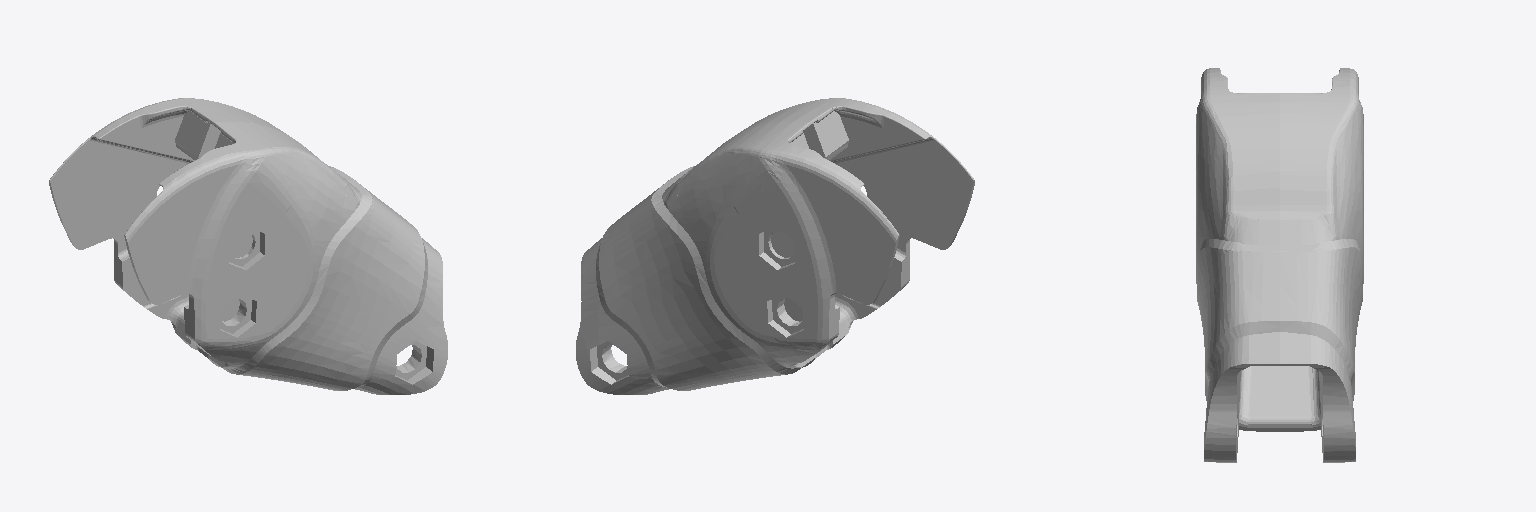
3 renders of one model, left to right at view 1: azimuth 30°, elevation 25°; view 2: azimuth 150°, elevation 25°; view 3: azimuth 270°, elevation 25°, orthographic.
Visible parts, largest first — view 1: Link13_L; view 2: Link13_L; view 3: Link13_L.
Boxes of the visible parts, x1,y1,x2,y2 form: Link13_L: [49, 98, 447, 394]; Link13_L: [576, 98, 974, 394]; Link13_L: [1196, 68, 1363, 462].
Size of the model in its own units: 0.0378 by 0.0306 by 0.0162.